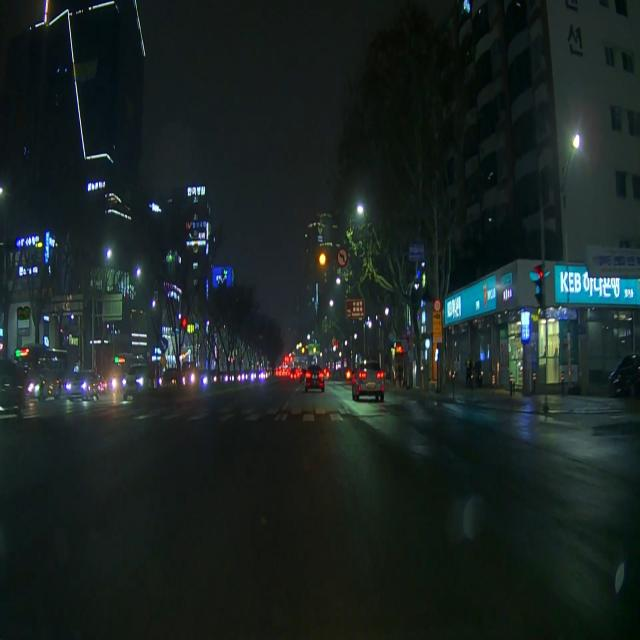Yellow Light: (319, 252, 326, 266)
